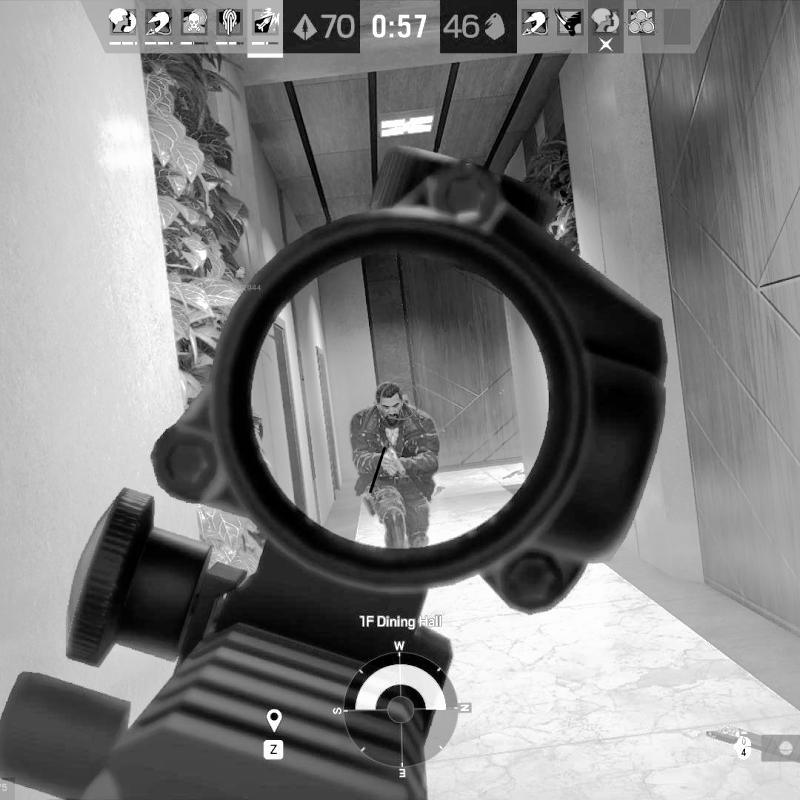Character: (347, 380, 442, 550)
Head: (374, 381, 407, 420)
